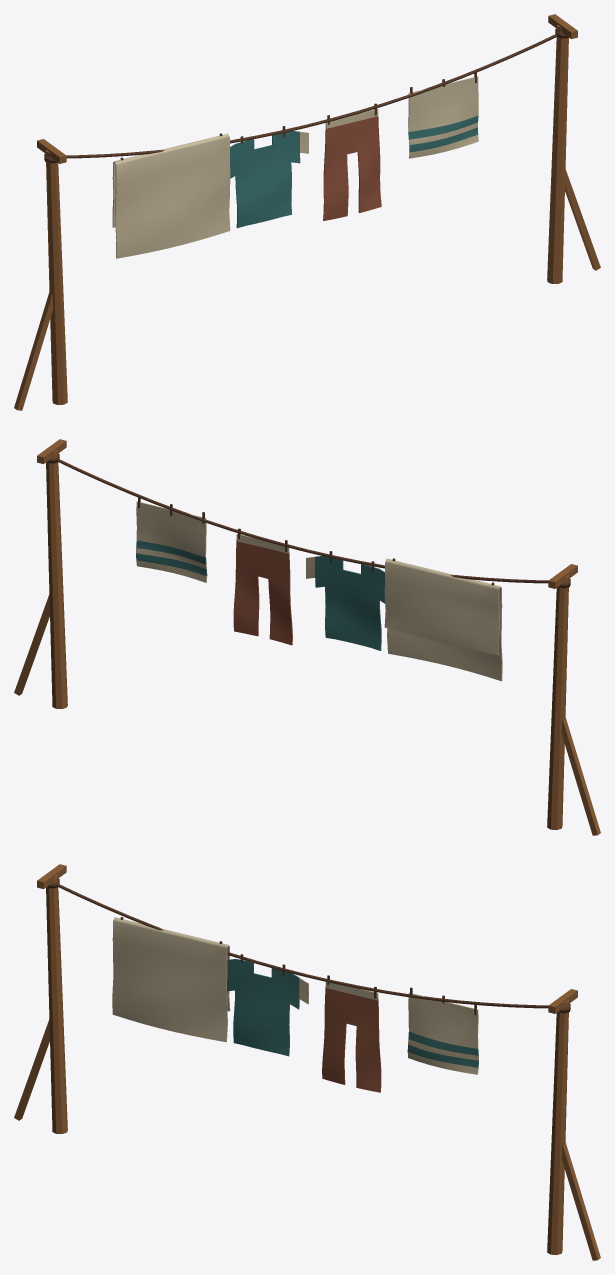
File: prop_laundry_line_a.glb
The picture shows the model from 3 angles, top to bottom: view 1: azimuth 30°, elevation 25°; view 2: azimuth 150°, elevation 25°; view 3: azimuth 330°, elevation 25°; orthographic projection.
Parts seen in each view (by area): view 1: prop_laundry_line_a_cloth_0, prop_laundry_line_a_frame, prop_laundry_line_a_cloth_1, prop_laundry_line_a_cloth_2, prop_laundry_line_a_cloth_3; view 2: prop_laundry_line_a_frame, prop_laundry_line_a_cloth_0, prop_laundry_line_a_cloth_1, prop_laundry_line_a_cloth_2, prop_laundry_line_a_cloth_3; view 3: prop_laundry_line_a_cloth_0, prop_laundry_line_a_frame, prop_laundry_line_a_cloth_1, prop_laundry_line_a_cloth_2, prop_laundry_line_a_cloth_3.
Part boxes in pixels (x1,y1,x2,y2): prop_laundry_line_a_cloth_0: (112, 133, 230, 258); prop_laundry_line_a_frame: (14, 14, 600, 410); prop_laundry_line_a_cloth_1: (230, 126, 308, 228); prop_laundry_line_a_cloth_2: (323, 103, 381, 220); prop_laundry_line_a_cloth_3: (408, 72, 478, 158); prop_laundry_line_a_frame: (14, 439, 600, 835); prop_laundry_line_a_cloth_0: (384, 558, 502, 681); prop_laundry_line_a_cloth_1: (306, 551, 385, 650); prop_laundry_line_a_cloth_2: (233, 528, 292, 645); prop_laundry_line_a_cloth_3: (136, 497, 207, 582); prop_laundry_line_a_cloth_0: (112, 917, 230, 1042); prop_laundry_line_a_frame: (14, 864, 600, 1260); prop_laundry_line_a_cloth_1: (227, 954, 308, 1056); prop_laundry_line_a_cloth_2: (322, 975, 381, 1092); prop_laundry_line_a_cloth_3: (407, 987, 478, 1074).
Bounding box in the file's own units: 4.72 × 1.98 × 0.3199.
